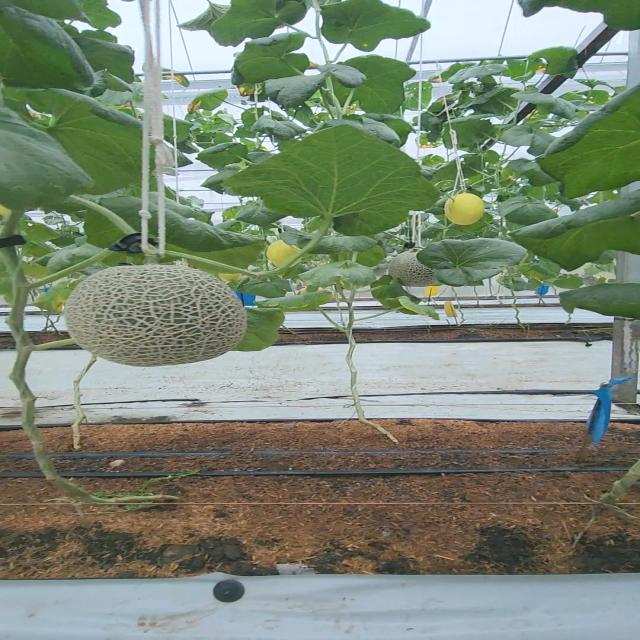Front-melon: (70, 264, 247, 367)
Rear-melon: (446, 191, 486, 227)
